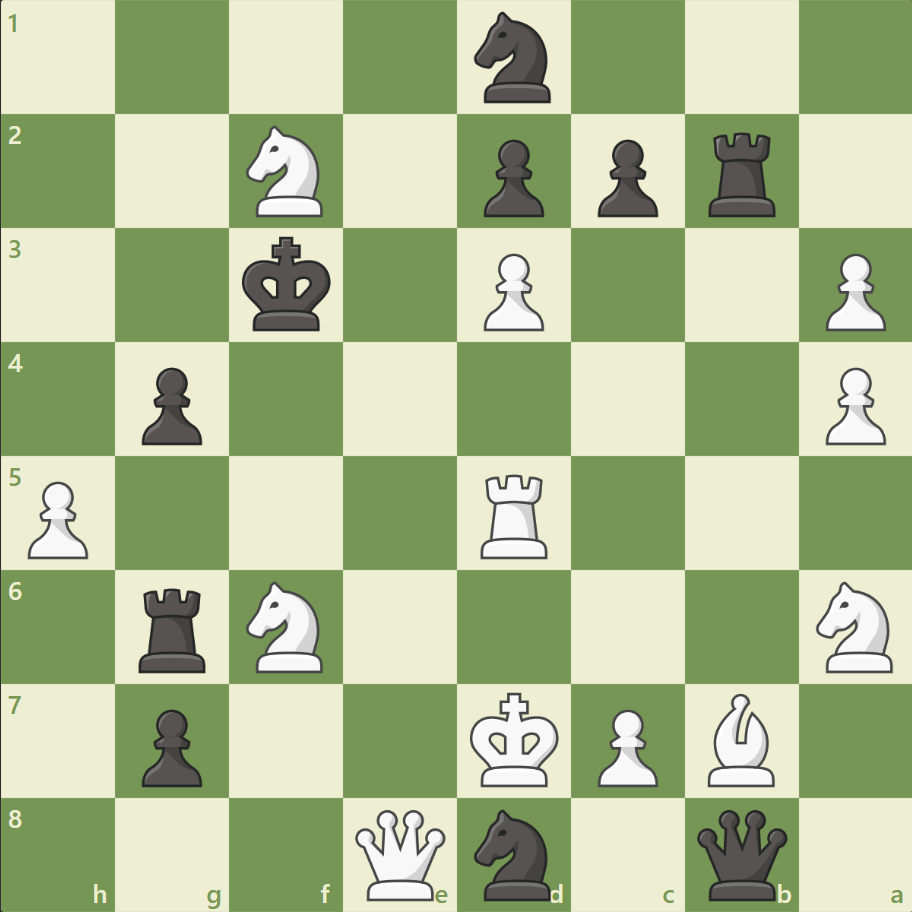B: (698, 687, 782, 790)
K: (465, 685, 565, 793)
N: (806, 575, 903, 677), (238, 575, 335, 677), (238, 121, 335, 223)
P: (20, 473, 95, 564), (474, 246, 549, 337), (588, 700, 662, 791), (815, 359, 889, 450), (815, 246, 889, 337)
Q: (351, 804, 450, 903)
R: (473, 466, 556, 563)
k: (238, 231, 338, 339)
n: (465, 7, 562, 110), (465, 802, 562, 904)
p: (133, 700, 208, 791), (133, 359, 208, 450), (474, 132, 549, 223), (588, 132, 662, 223)
q: (691, 804, 790, 903)
r: (700, 125, 783, 222), (133, 579, 215, 676)
